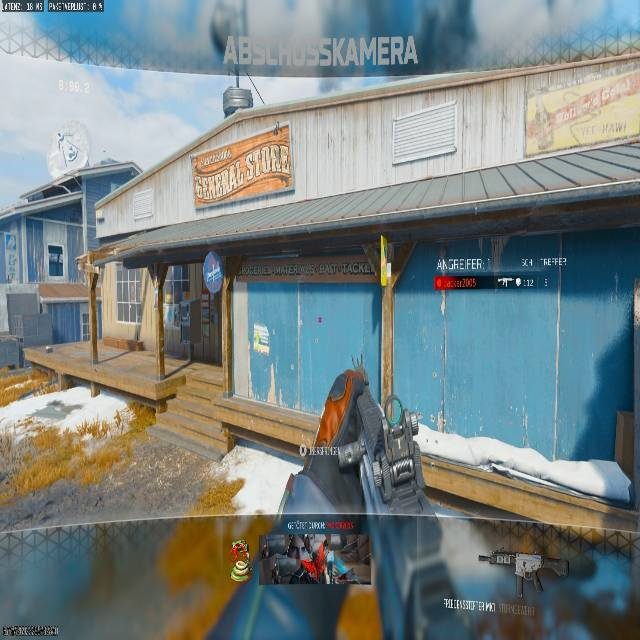player: (220, 79, 260, 118)
